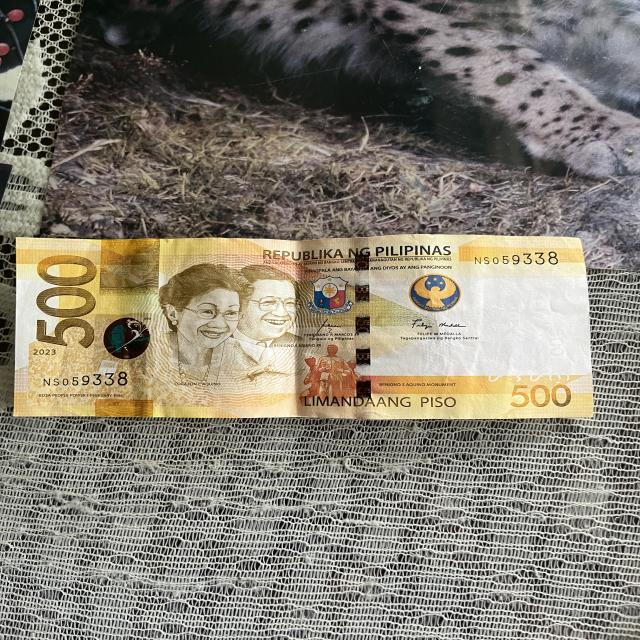concealed_value: (98, 238, 162, 293)
optically_variable_device: (90, 314, 158, 377)
see_through_mark: (472, 361, 580, 391)
serial_number: (33, 365, 137, 396), (465, 245, 565, 269)
value_watermark: (542, 326, 570, 366)
